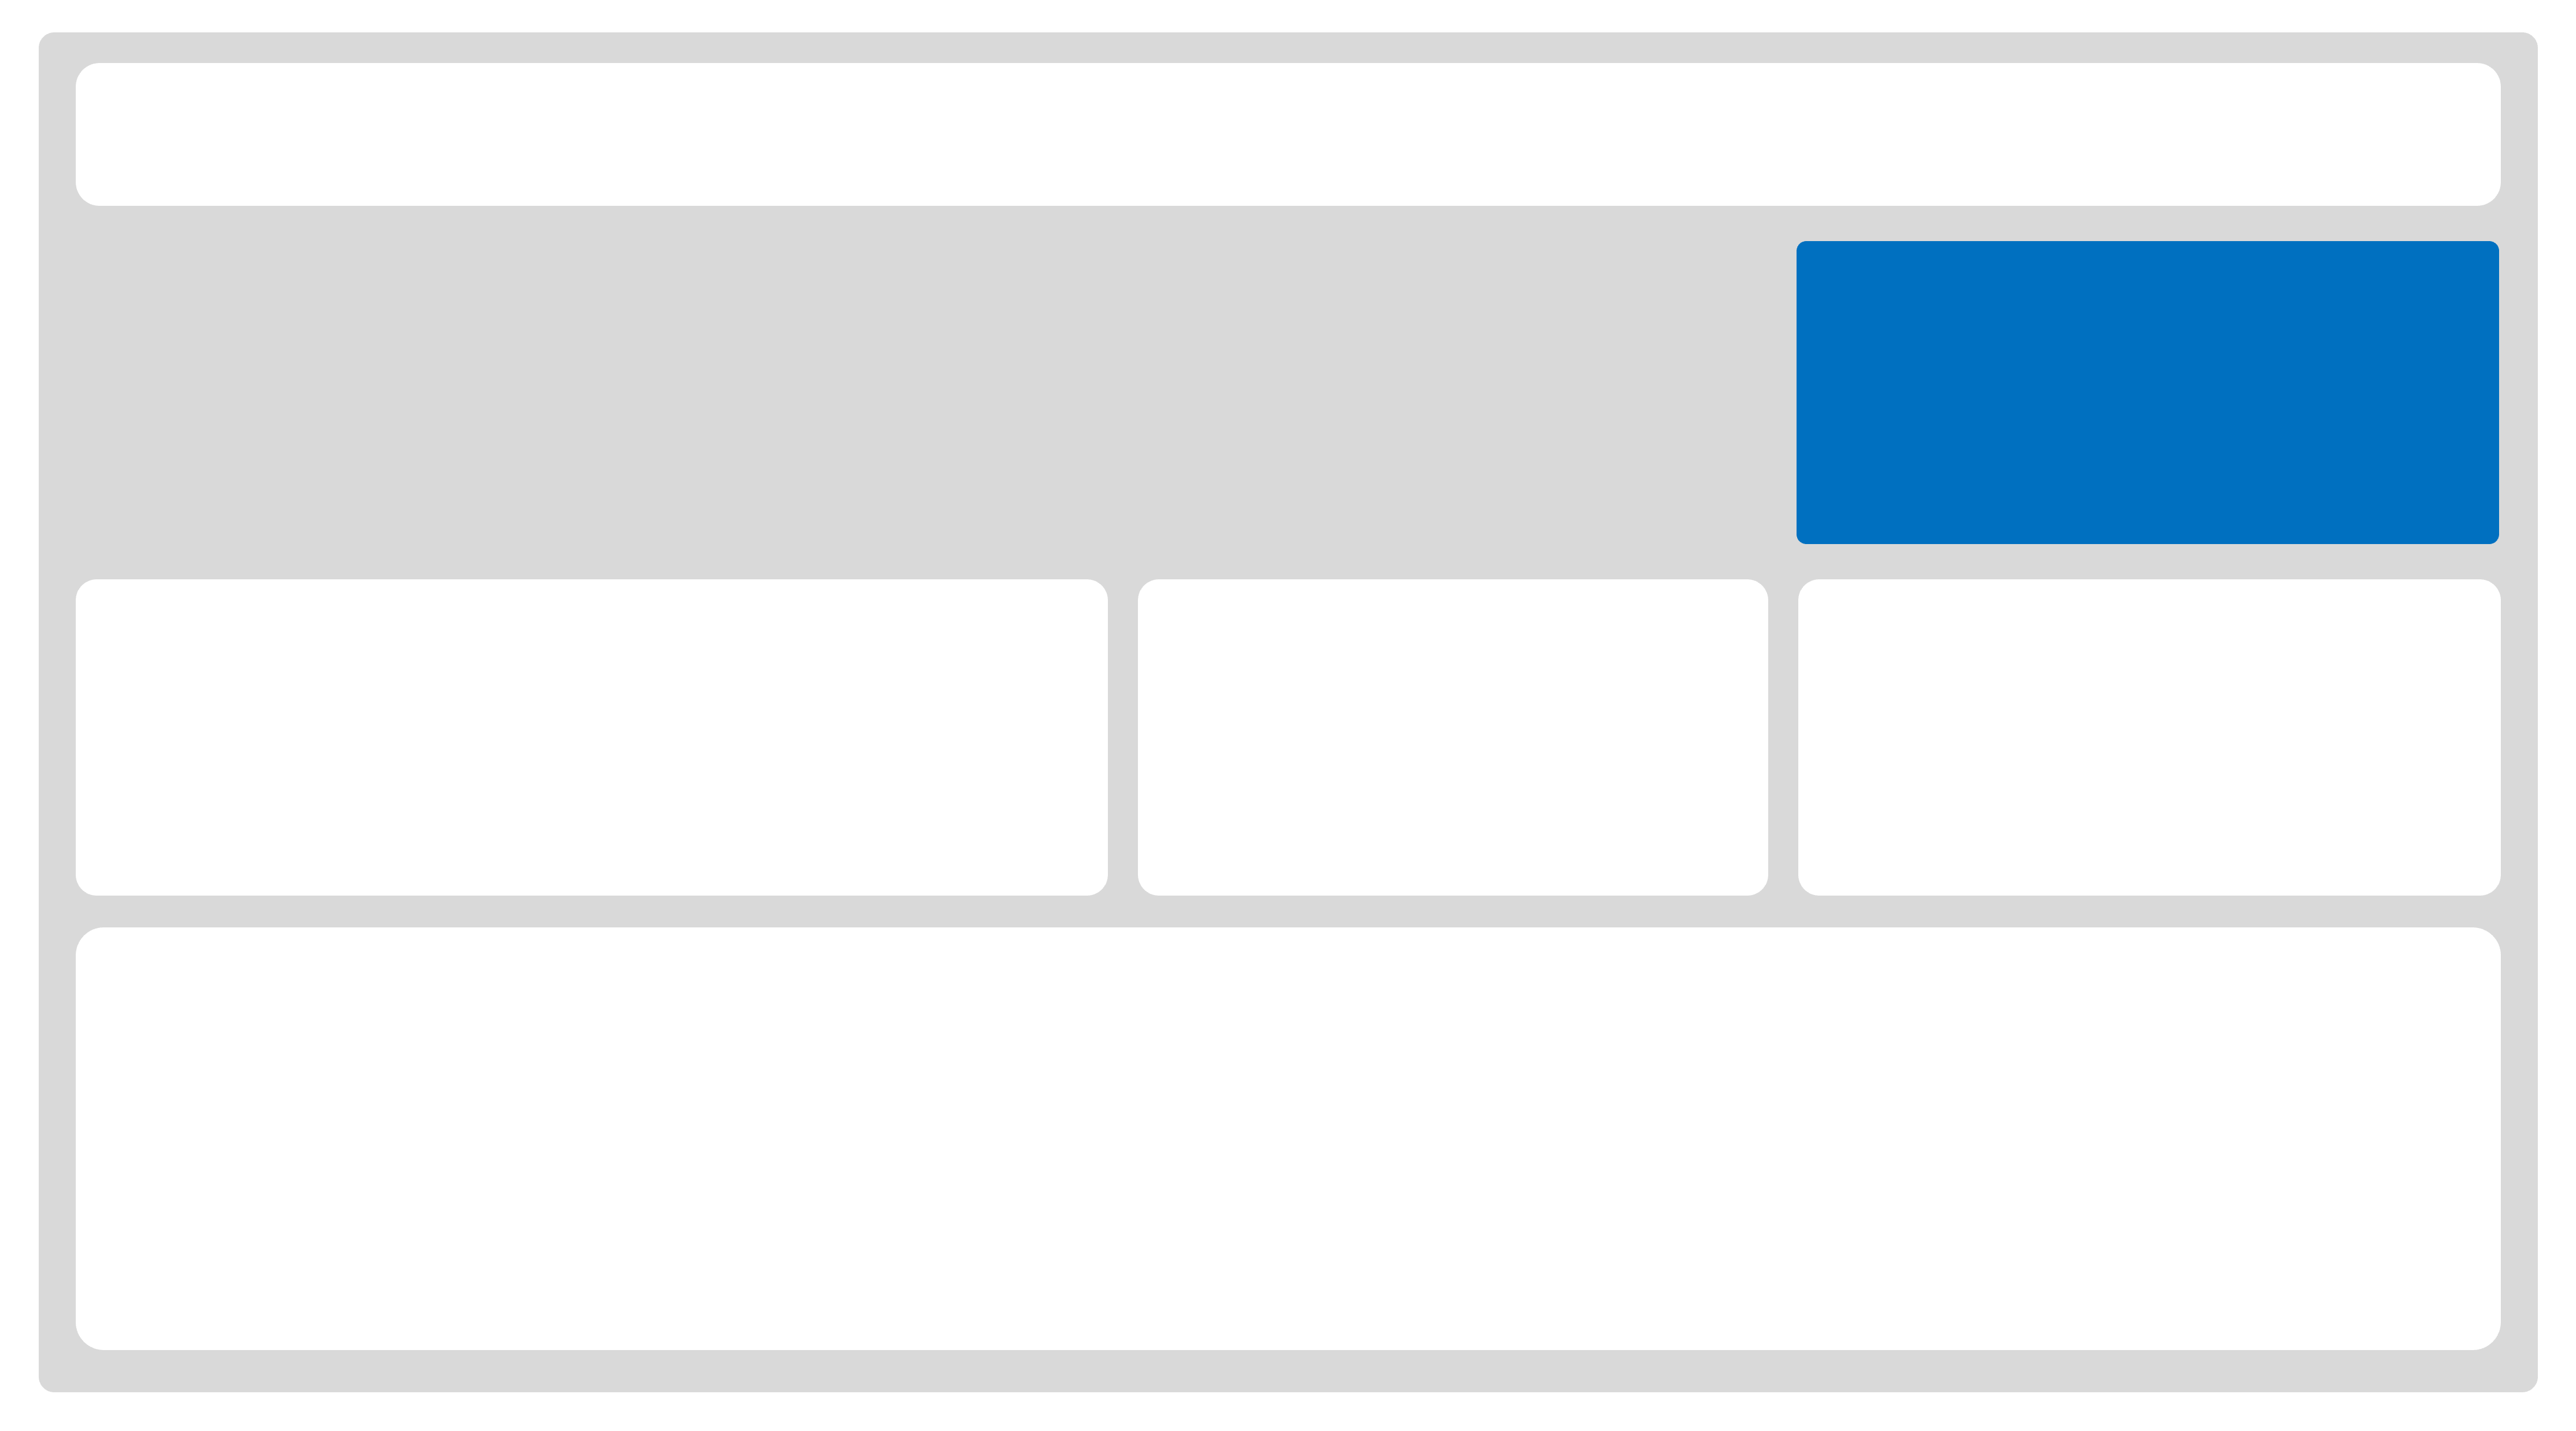

This screenshot's page, from the dashboard's own definition file:
{"tool":"powerbi","page":{"name":"Page 1","canvas":[1280,720],"ordinal":0},"visuals":[{"type":"textbox","title":"Title","box":[54.9,39.8,476.2,54.9],"z":0},{"type":"cardVisual","fields":{"Data":["Key Measure.Total Revenue","Key Measure.Inventory Value","Key Measure.Stock Available","Key Measure.Days of Inventory on hand (DOH)"]},"box":[32.7,118.6,854.6,157.4],"z":1000},{"type":"gauge","fields":{"Y":["Key Measure.Inventory Turnover"]},"box":[895.8,128.3,335.3,145.3],"z":2000},{"type":"clusteredColumnChart","title":"Stock Overview by Month","fields":{"Y":["Key Measure.Total Unit Sales","Key Measure.Stock Available"],"Category":["Date.Month Name"]},"box":[46,295.4,496.3,153.7],"z":3000},{"type":"barChart","fields":{"Y":["Key Measure.Inventory Value"],"Category":["Inventory.Category"]},"box":[568.9,296.6,306.3,150.1],"z":4000},{"type":"barChart","fields":{"Y":["Key Measure.Total Unit Sales"],"Category":["Inventory.Region"]},"box":[903,295.4,328,150.1],"z":5000},{"type":"tableEx","fields":{"Values":["Inventory.Store ID","Inventory.Product ID","Inventory.Category","Key Measure.Total Unit Sales","Key Measure.Total Revenue","Key Measure.Average Inventory","Key Measure.Inventory Turnover","Key Measure.Sell-through Rate","Key Measure.Days of Inventory on hand (DOH)"]},"box":[46,465.1,1185.8,209.5],"z":6000},{"type":"image","title":"Filter Pane Icon","box":[1167.5,36.5,55.5,59.9],"z":8000}]}

Visuals, with their boxes in screenshot pixels (x1, y1, x2, y2), scaled from the page's 1280x720 canvas onto the 2576x1431 screenshot:
"Title" textbox: (left=110, top=79, right=1069, bottom=188)
cardVisual - Key Measure.Total Revenue x Key Measure.Inventory Value: (left=66, top=236, right=1786, bottom=549)
gauge - Key Measure.Inventory Turnover: (left=1803, top=255, right=2478, bottom=544)
"Stock Overview by Month" clusteredColumnChart: (left=93, top=587, right=1091, bottom=893)
barChart - Key Measure.Inventory Value x Inventory.Category: (left=1145, top=590, right=1761, bottom=888)
barChart - Key Measure.Total Unit Sales x Inventory.Region: (left=1817, top=587, right=2477, bottom=885)
tableEx - Inventory.Store ID x Inventory.Product ID: (left=93, top=925, right=2479, bottom=1341)
"Filter Pane Icon" image: (left=2349, top=72, right=2462, bottom=191)
